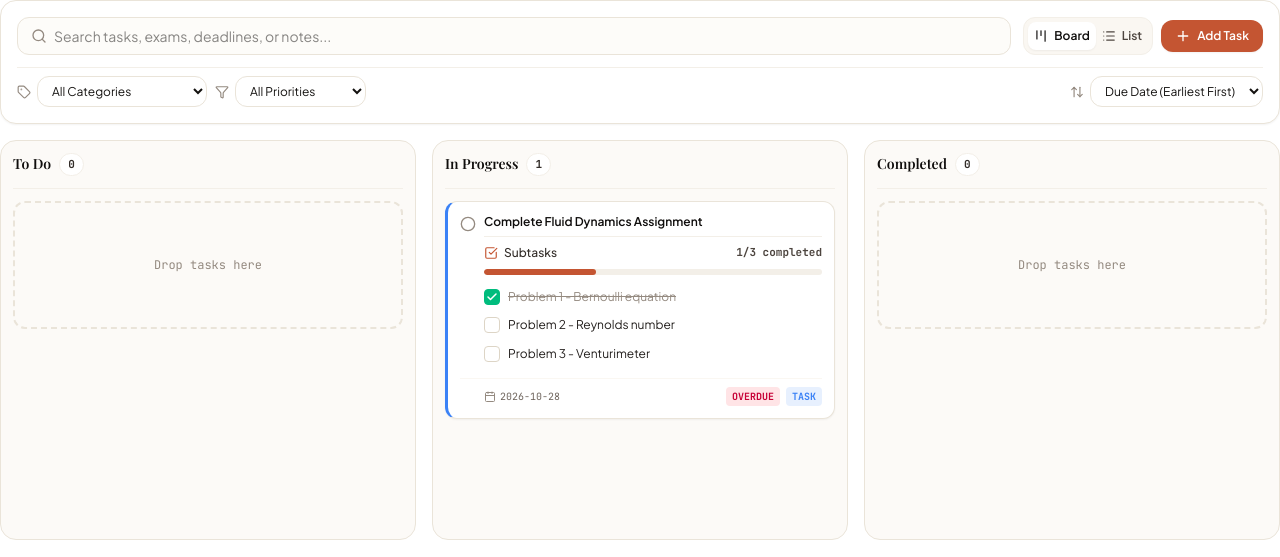
Test: Phase 4E: Planner & Calendar UX Audit Regressions › displays subtask progress badge (completed/total) on list view items in TaskManagementView
Switch to List view
Click the button with aria-label "list view". click: (1122, 36)
box: [1096,22,1148,50]
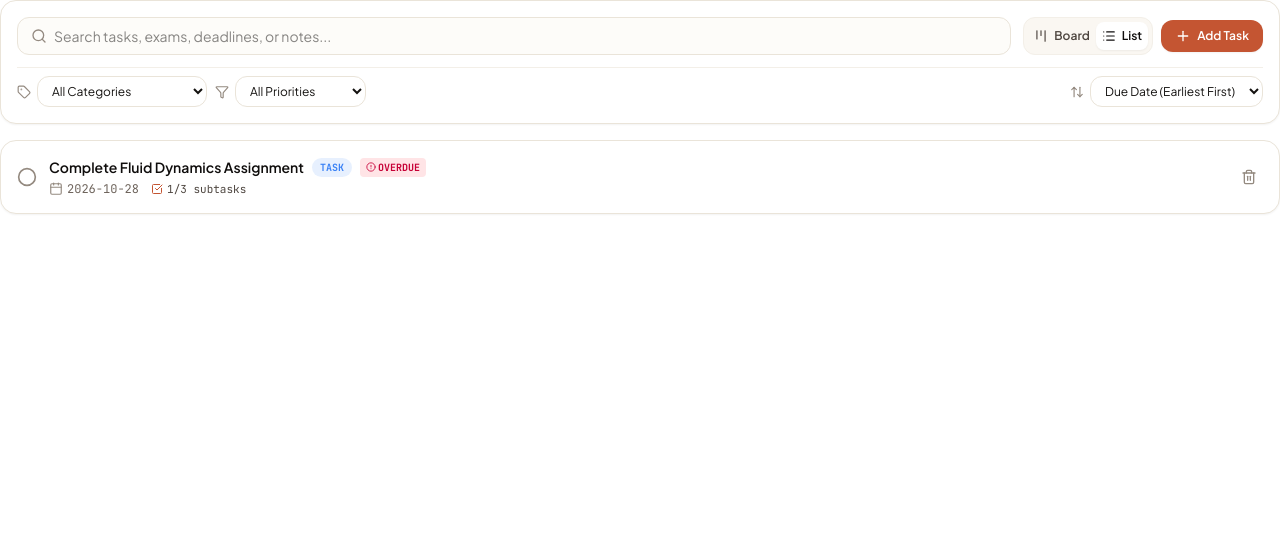
Expected: the text "Complete Fluid Dynamics Assignment" is shown, [49,157,304,177]
Expected: the text "1/3 subtasks" is shown, [167,182,246,196]
